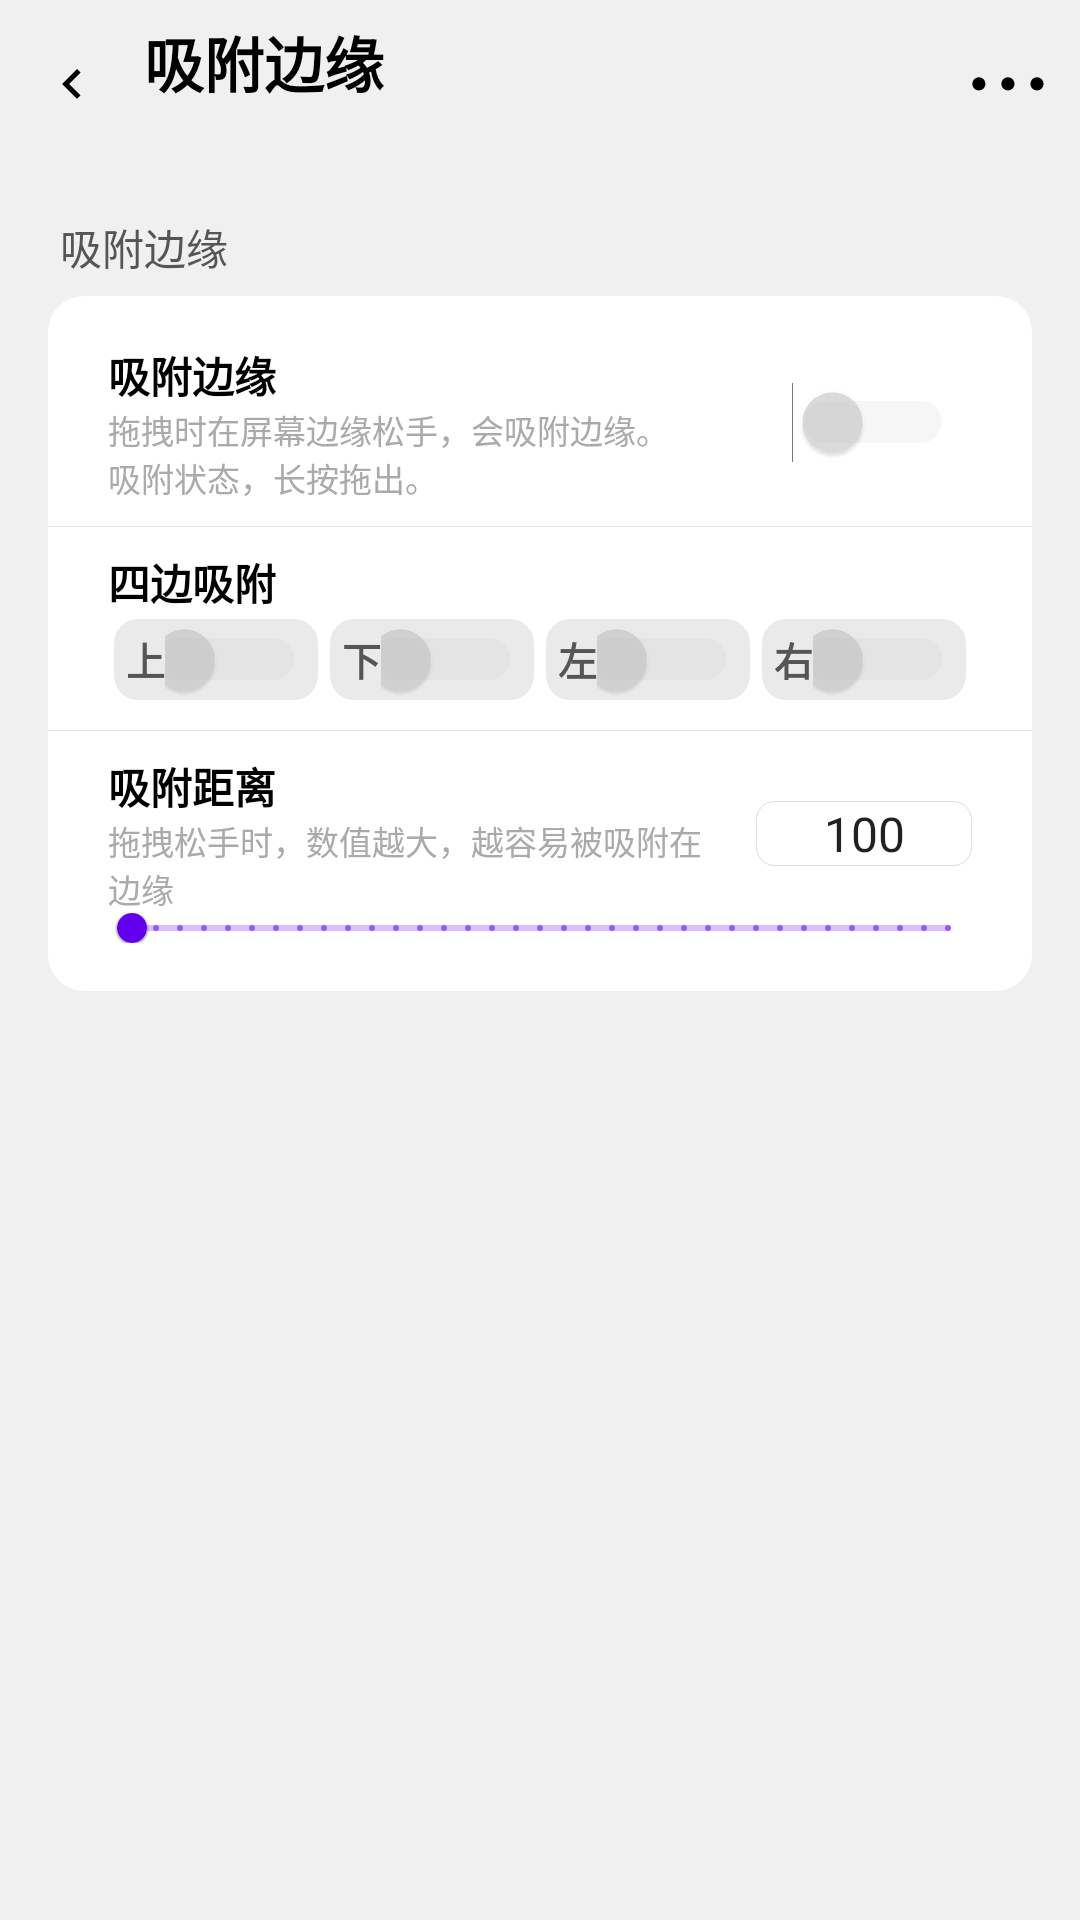

Point at icon controls on the screen. Image size 1080×1920, points as (x,y).
更多: (1008,84)
返回: (71,84)
